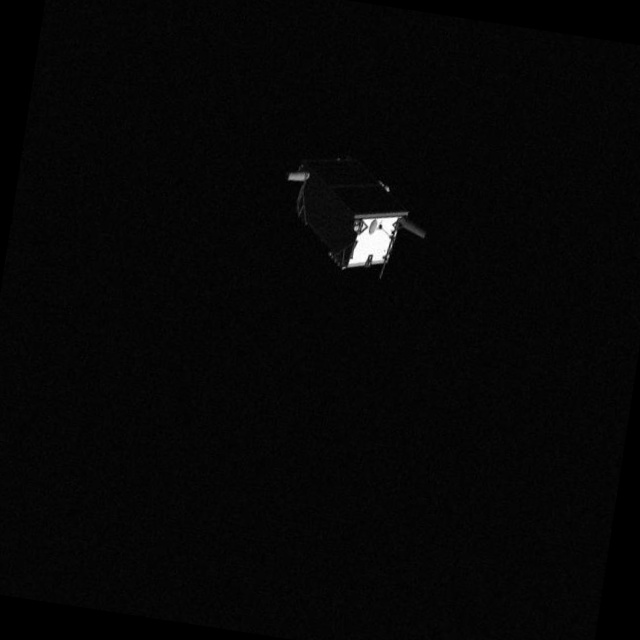medium_debris: (265, 126, 455, 285)
